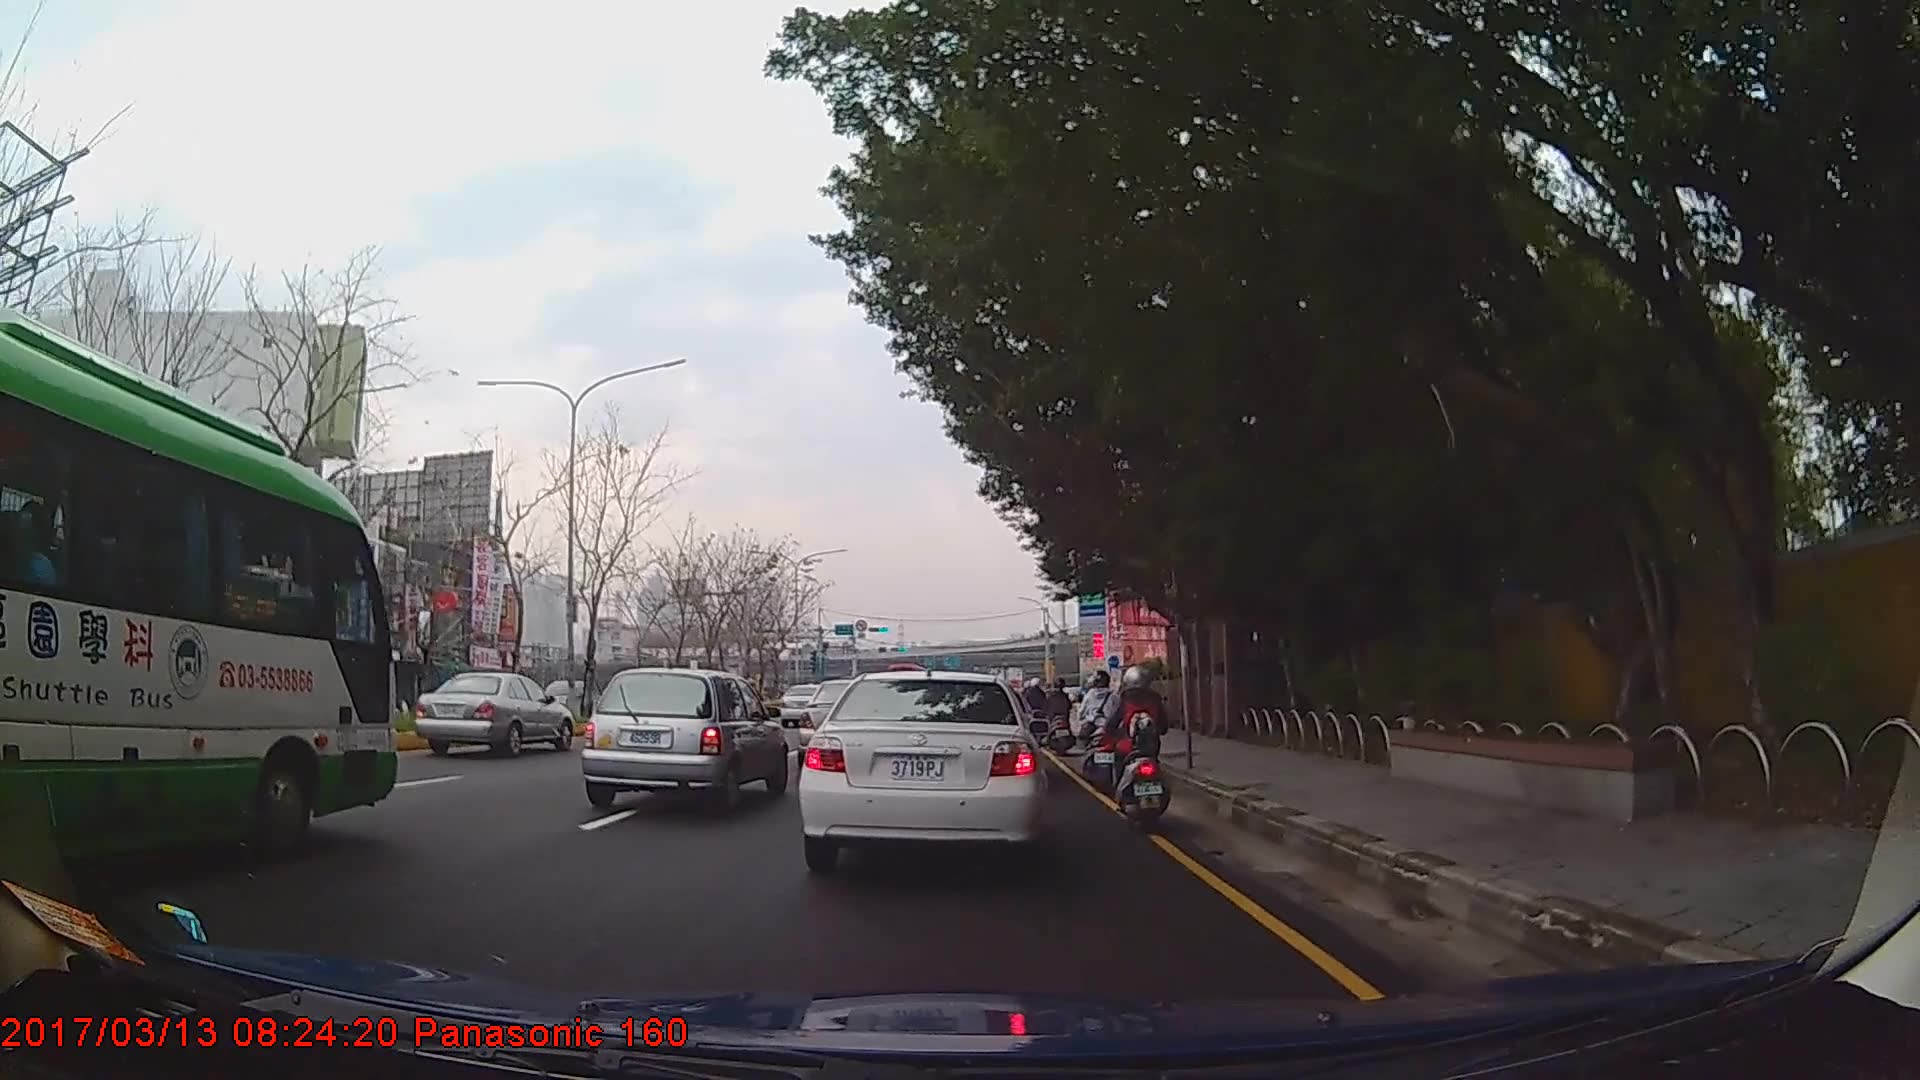rider: (1104, 661, 1164, 820), (1079, 669, 1121, 789), (1045, 678, 1073, 743)
vehicle: (0, 307, 400, 887), (794, 673, 1045, 868), (580, 667, 789, 813), (416, 670, 571, 761), (779, 680, 834, 726)
